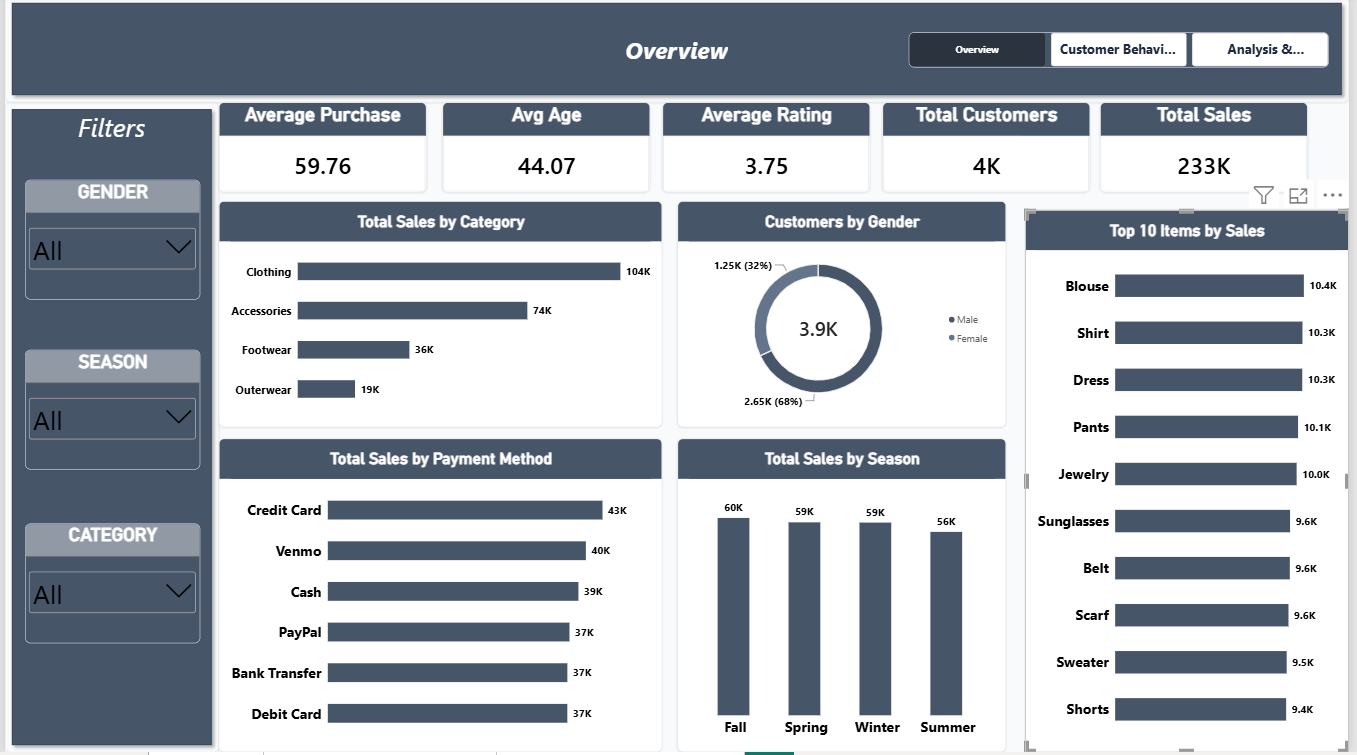

This screenshot's page, from the dashboard's own definition file:
{"tool":"powerbi","page":{"name":"Overview","canvas":[1920,1080],"ordinal":0},"visuals":[{"type":"shape","box":[0,0,1919.7,151.8],"z":0},{"type":"shape","box":[0,151.8,305.4,928.6],"z":1000},{"type":"cardVisual","title":"Average Purchase","fields":{"Data":["cleaned_Customer_Shopping.Average Purchase"]},"box":[305.4,151.8,296.4,128.6],"z":2000},{"type":"cardVisual","title":"Avg Age","fields":{"Data":["cleaned_Customer_Shopping.avg age"]},"box":[625,151.8,296.4,128.6],"z":3000},{"type":"cardVisual","title":"Average Rating","fields":{"Data":["cleaned_Customer_Shopping.Average Rating"]},"box":[939.3,151.8,296.4,128.6],"z":4000},{"type":"cardVisual","title":"Total Customers","fields":{"Data":["cleaned_Customer_Shopping.Total Customers"]},"box":[1253.6,151.8,296.4,128.6],"z":5000},{"type":"cardVisual","title":"Total Sales","fields":{"Data":["cleaned_Customer_Shopping.total sales"]},"box":[1564.3,151.8,296.4,128.6],"z":6000},{"type":"clusteredBarChart","title":"Total Sales by Category","fields":{"Category":["cleaned_Customer_Shopping.Category"],"Y":["Sum(cleaned_Customer_Shopping.Purchase Amount (USD))"]},"box":[305.4,292.9,633.9,323.2],"z":7000},{"type":"clusteredColumnChart","title":"Total Sales by Season","fields":{"Category":["cleaned_Customer_Shopping.Season"],"Y":["Sum(cleaned_Customer_Shopping.Purchase Amount (USD))"]},"box":[960.7,632.1,469.6,448.2],"z":8000},{"type":"clusteredBarChart","title":"Top 10 Items by Sales","fields":{"Category":["cleaned_Customer_Shopping.Item Purchased"],"Y":["Sum(cleaned_Customer_Shopping.Purchase Amount (USD))"]},"box":[1457.2,305.4,462.5,775],"z":9000},{"type":"donutChart","title":"Customers by Gender","fields":{"Category":["cleaned_Customer_Shopping.Gender"],"Y":["CountNonNull(cleaned_Customer_Shopping.Customer ID)"]},"box":[960.7,292.9,469.6,323.2],"z":10000},{"type":"clusteredBarChart","title":"Total Sales by Payment Method","fields":{"Category":["cleaned_Customer_Shopping.Payment Method"],"Y":["Sum(cleaned_Customer_Shopping.Purchase Amount (USD))"]},"box":[305.4,632.1,633.9,448.2],"z":11000},{"type":"slicer","title":"GENDER","fields":{"Values":["cleaned_Customer_Shopping.Gender"]},"box":[28.6,262.5,250,171.4],"z":12000},{"type":"slicer","title":"SEASON","fields":{"Values":["cleaned_Customer_Shopping.Season"]},"box":[28.6,505.4,250,171.4],"z":13000},{"type":"slicer","title":"CATEGORY","fields":{"Values":["cleaned_Customer_Shopping.Category"]},"box":[28.6,753.6,250,171.4],"z":14000},{"type":"pageNavigator","box":[1291.1,51.8,600,50],"z":15000}]}

Visuals, with their boxes in screenshot pixels (x1, y1, x2, y2), scaled from the page's 1920x1080 canvas onto the 1357x755 screenshot:
shape: (0,0,1356,106)
shape: (0,106,216,754)
"Average Purchase" cardVisual: (216,106,425,196)
"Avg Age" cardVisual: (442,106,651,196)
"Average Rating" cardVisual: (664,106,873,196)
"Total Customers" cardVisual: (886,106,1095,196)
"Total Sales" cardVisual: (1106,106,1315,196)
"Total Sales by Category" clusteredBarChart: (216,205,664,431)
"Total Sales by Season" clusteredColumnChart: (679,442,1011,754)
"Top 10 Items by Sales" clusteredBarChart: (1030,213,1356,754)
"Customers by Gender" donutChart: (679,205,1011,431)
"Total Sales by Payment Method" clusteredBarChart: (216,442,664,754)
"GENDER" slicer: (20,184,197,303)
"SEASON" slicer: (20,353,197,473)
"CATEGORY" slicer: (20,527,197,647)
pageNavigator: (913,36,1337,71)
